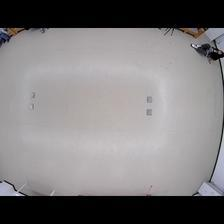fall: (188, 37, 224, 66)
